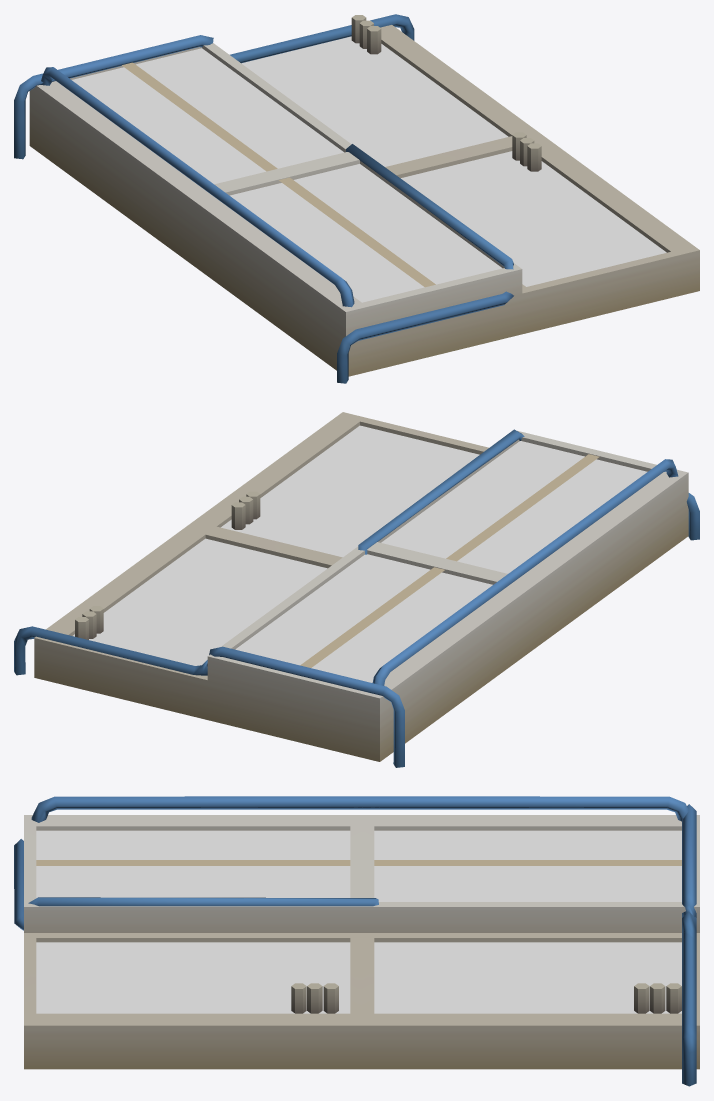
File: SM_WaterTreatment_Part_02.fbx
The picture shows the model from 3 angles, top to bottom: view 1: azimuth 30°, elevation 25°; view 2: azimuth 150°, elevation 25°; view 3: azimuth 270°, elevation 25°; orthographic projection. The views are drawn at different scales.
Parts seen in each view (by area): view 1: SM_WaterTreatment_Part_02; view 2: SM_WaterTreatment_Part_02; view 3: SM_WaterTreatment_Part_02.
Boxes of the visible parts, x1,y1,x2,y2 form: SM_WaterTreatment_Part_02: (14, 14, 699, 383); SM_WaterTreatment_Part_02: (14, 412, 699, 767); SM_WaterTreatment_Part_02: (14, 796, 699, 1086).
Size of the model in its own units: 1.83 by 0.396 by 2.54.
